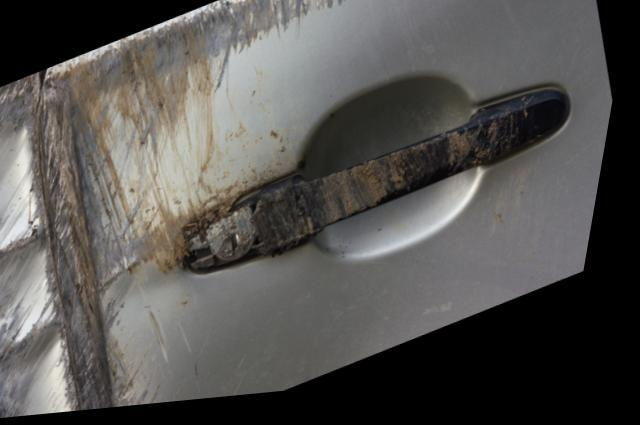dent: (0, 81, 85, 421)
scratch: (19, 0, 394, 414)
